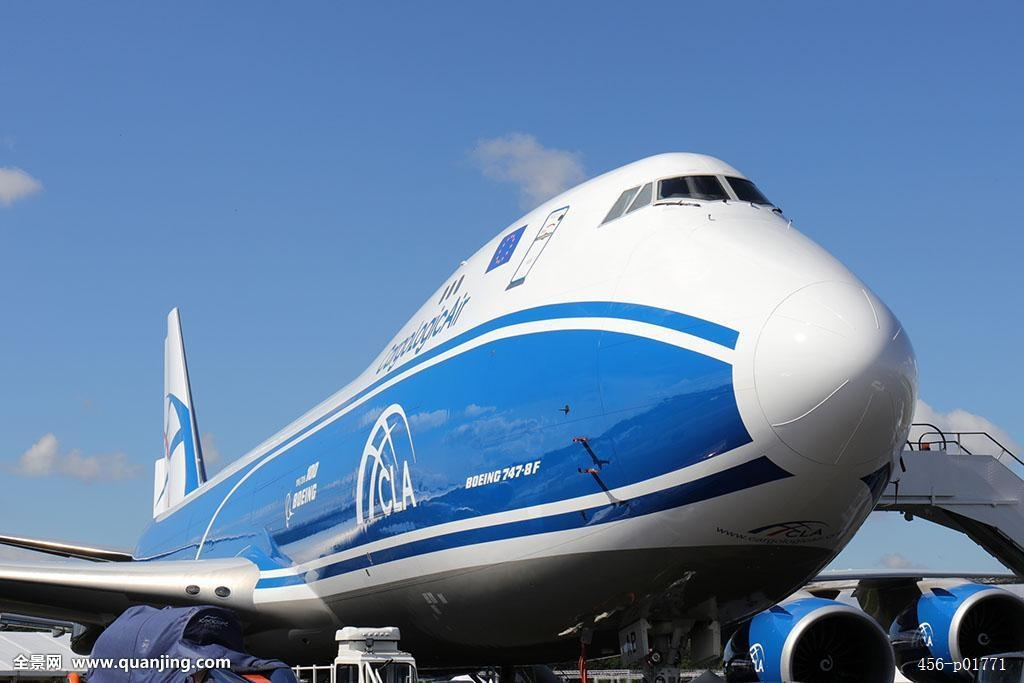airplane: (15, 148, 1013, 669)
